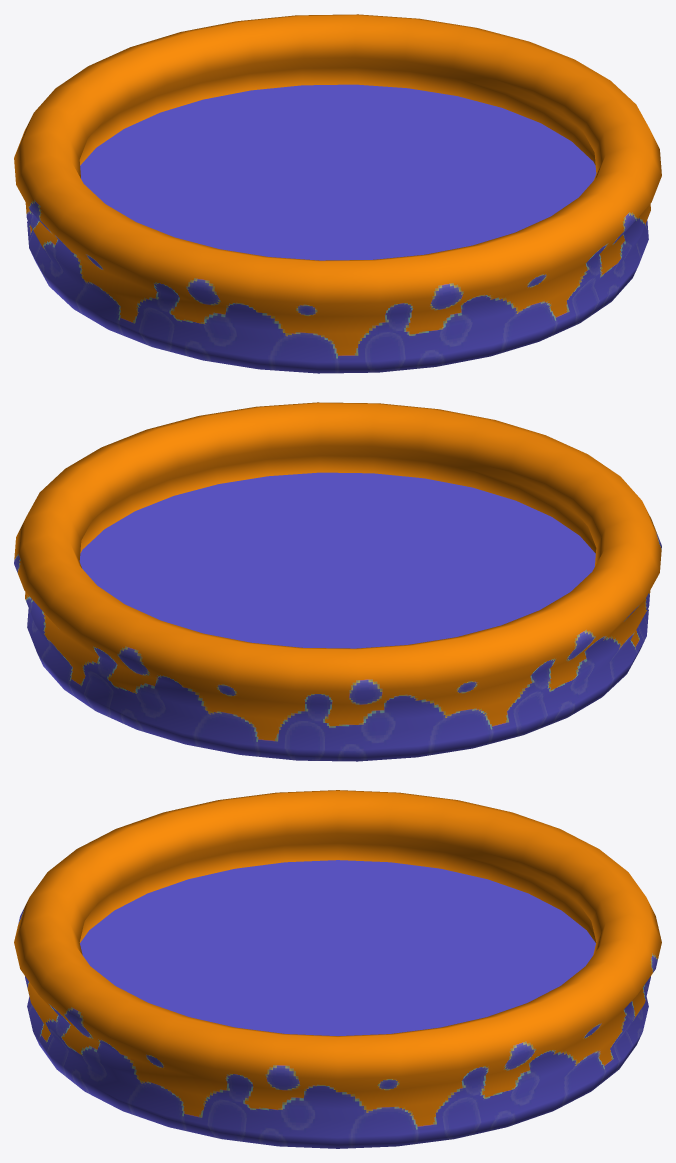
The model's file is Swimming Pool.obj.
3 views of the same model, one above another, from view 1: azimuth 30°, elevation 25°; view 2: azimuth 150°, elevation 25°; view 3: azimuth 270°, elevation 25° (orthographic).
Parts seen in each view (by area): view 1: Swimming_Pool; view 2: Swimming_Pool; view 3: Swimming_Pool.
Boxes of the visible parts, x1=… form: Swimming_Pool: x1=14, y1=14, x2=661, y2=373; Swimming_Pool: x1=14, y1=402, x2=661, y2=761; Swimming_Pool: x1=14, y1=790, x2=661, y2=1148.
Size of the model in its own units: 2.78 by 0.5297 by 2.78.
